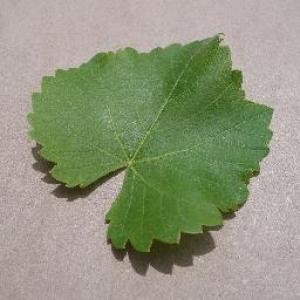Folha: (26, 32, 274, 253)
